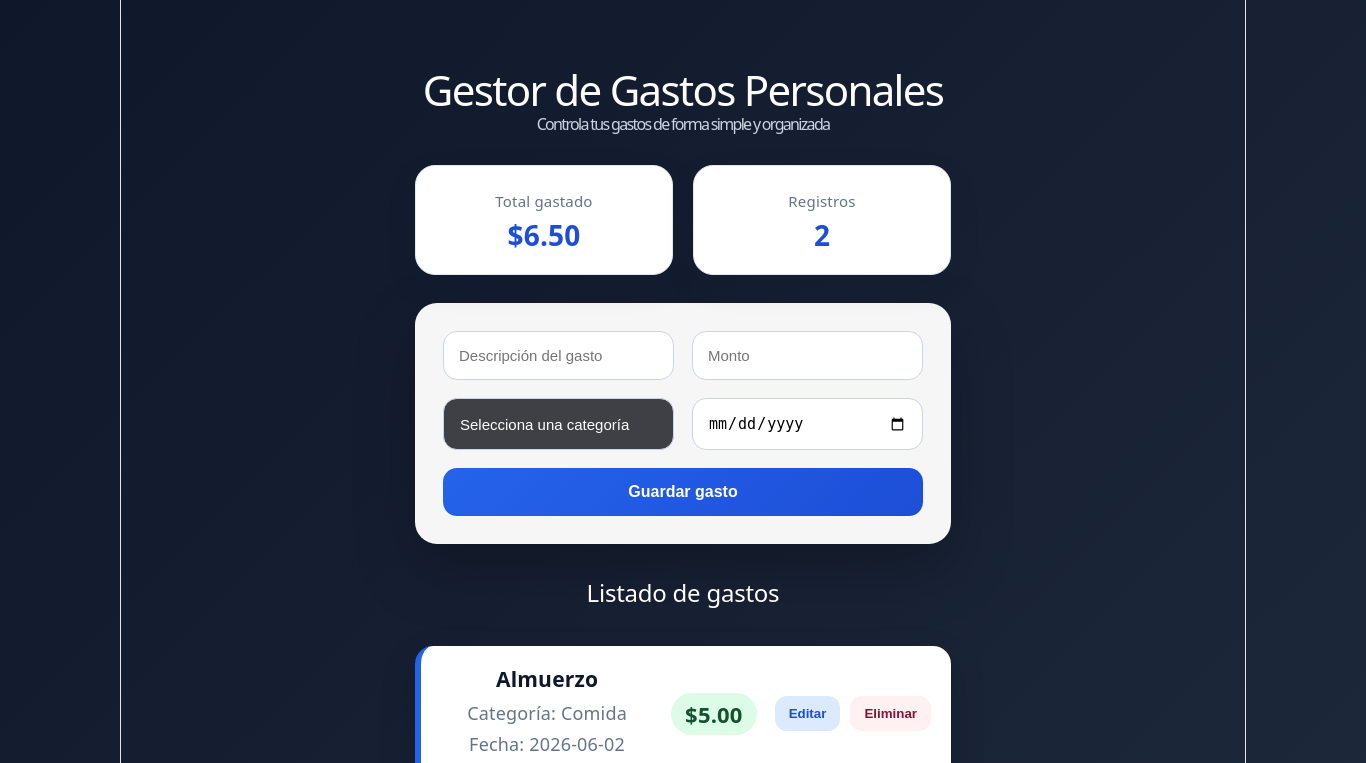
Test case: Gestor de Gastos › permite preparar la edición de un gasto
The image size is (1366, 763).
Check: the heading "Almuerzo" is shown, box [496,664,598,693]
Step 1. Click the button "Editar" → (808, 714), box [775,696,840,731]
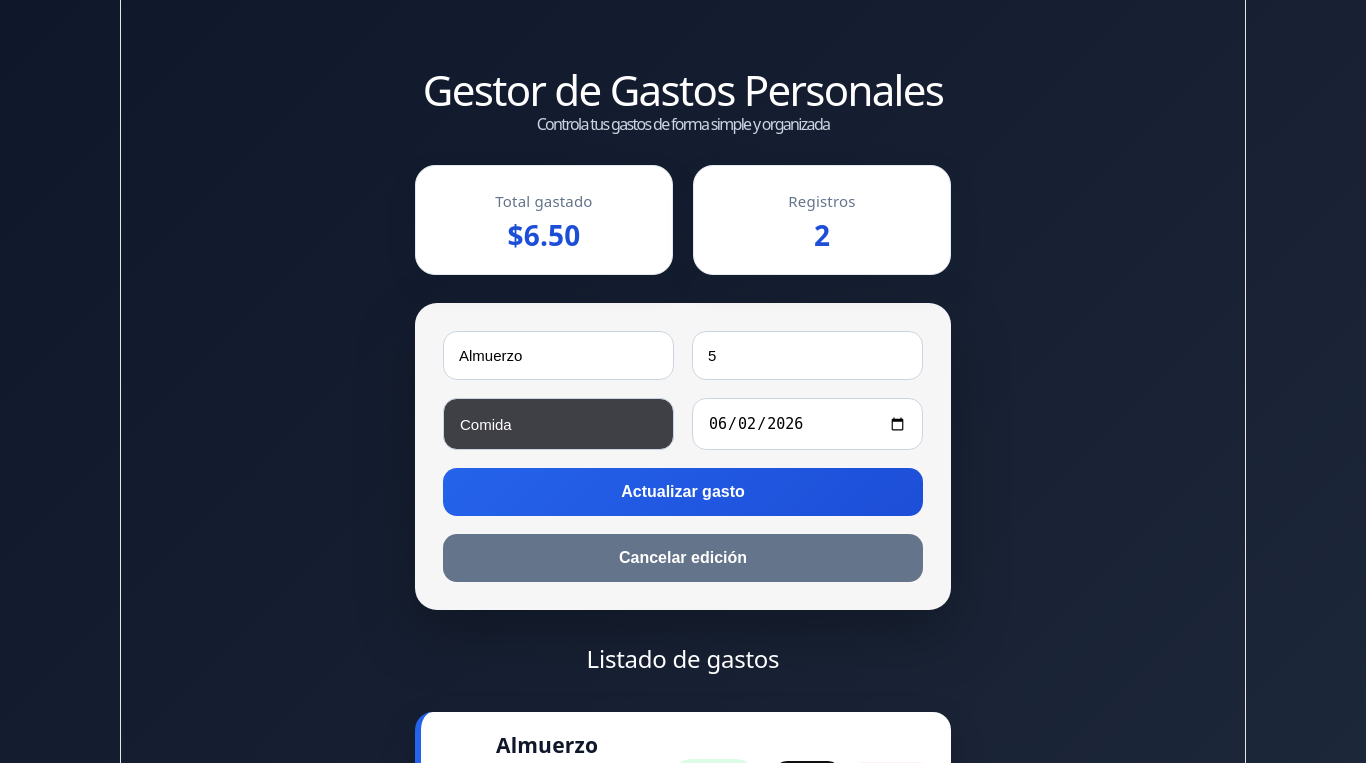
Check: the field showing "Almuerzo" is shown, box [443,331,674,380]
Check: the number field showing "5" is shown, box [692,331,923,380]
Check: the dropdown showing "Comida" is shown, box [443,398,674,450]
